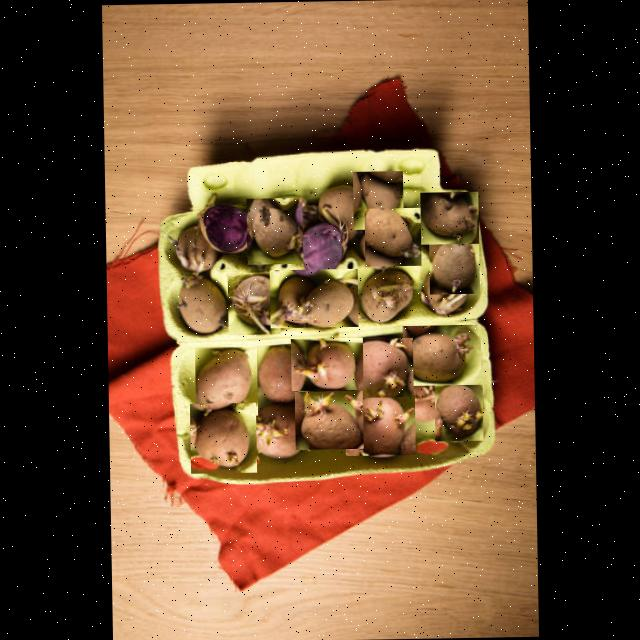Sprouted potato: (269, 267, 358, 327), (402, 324, 481, 384), (195, 340, 258, 415), (190, 401, 256, 472), (344, 336, 414, 399), (344, 396, 416, 454), (247, 393, 307, 462), (294, 389, 363, 448), (246, 196, 303, 264), (290, 336, 363, 389), (178, 266, 231, 334), (227, 270, 280, 334), (364, 206, 421, 265), (419, 190, 478, 243), (421, 257, 474, 315), (392, 368, 449, 421), (428, 234, 479, 293), (352, 170, 403, 228), (434, 383, 483, 440), (173, 221, 216, 277)
